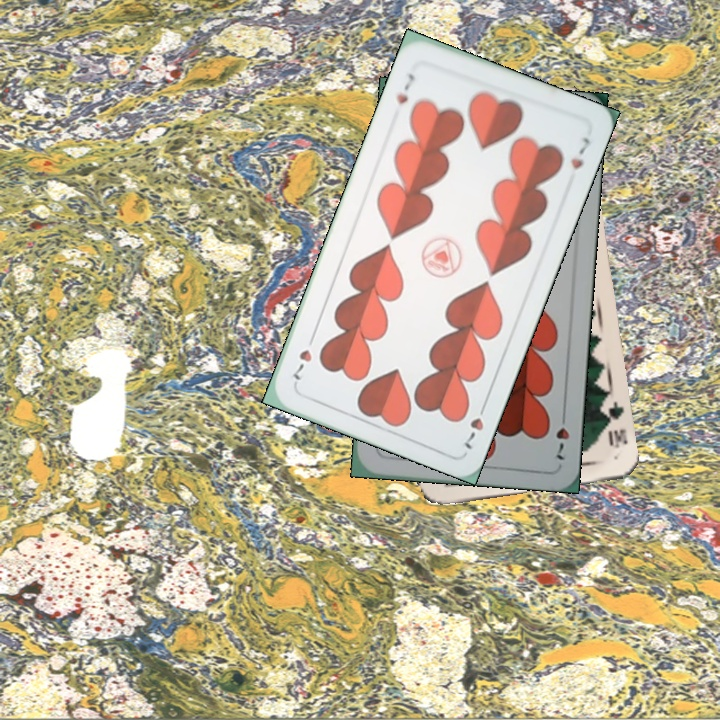G10: (599, 397, 631, 451)
H7: (460, 397, 490, 452), (552, 406, 572, 462), (392, 69, 418, 107)
